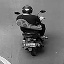mobil: (8, 6, 53, 55)
